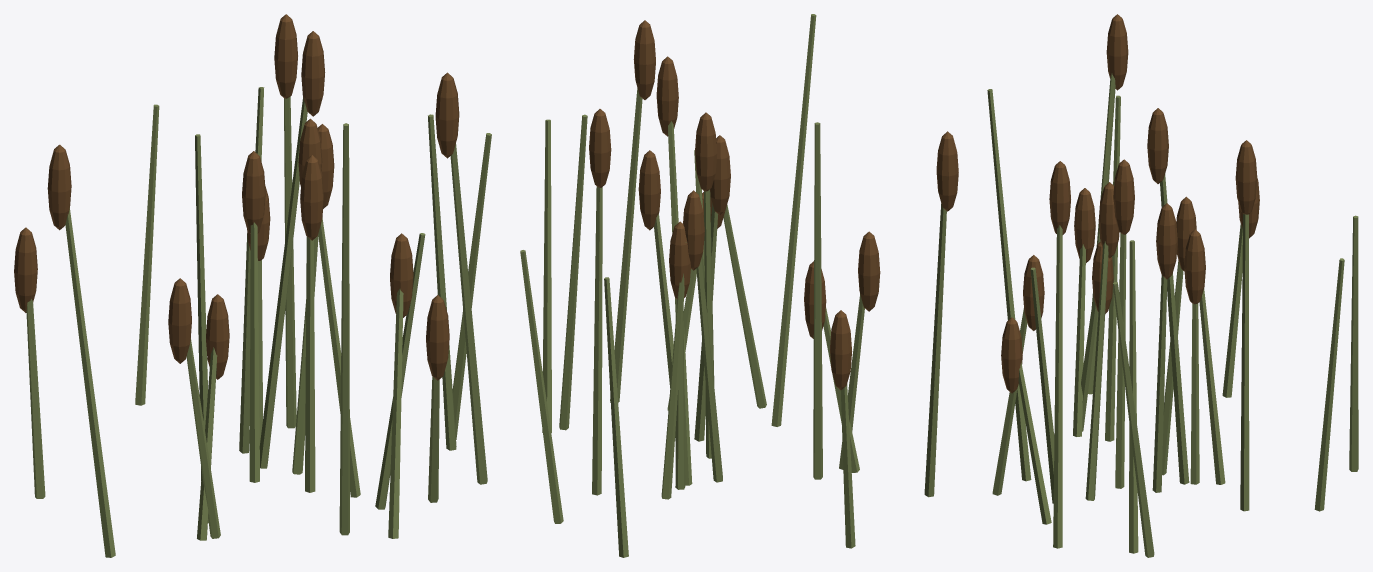
The model's file is detail_reeds.glb.
3 views of the same model, side by side, from view 1: azimuth 30°, elevation 25°; view 2: azimuth 150°, elevation 25°; view 3: azimuth 270°, elevation 25° (orthographic). The views are drawn at different scales.
Visible parts, largest first — view 1: Cone.006, Cone.017, Cone.010, Cone.008, Cone.018, Cone.019, Cone.011, Cone.002, Cone.015, Cone.013, Cone.012, Cone.009 (+23 smaller); view 2: Cone.006, Cone.012, Cone.019, Cone.015, Cone.017, Cone.010, Cone.009, Cone.018, Cone, Cone.002, Cone.003, Cone.013 (+20 smaller); view 3: Cone.010, Cone.006, Cone.019, Cone.009, Cone.004, Cone.018, Cone.015, Cone.008, Cone, Cone.012, Cone.011, Cone.005 (+23 smaller).
Part boxes in pixels (box(x1,y1,x2,y2)): Cone.006: box(339, 123, 349, 535); Cone.017: box(65, 208, 115, 557); Cone.010: box(450, 144, 487, 484); Cone.008: box(259, 97, 307, 468); Cone.018: box(135, 104, 159, 405); Cone.019: box(284, 96, 296, 428); Cone.011: box(305, 236, 315, 492); Cone.002: box(249, 222, 259, 482); Cone.015: box(428, 114, 456, 450); Cone.013: box(388, 289, 403, 538); Cone.012: box(195, 134, 208, 522); Cone.009: box(452, 133, 491, 439); Cone.006: box(771, 14, 816, 426); Cone.012: box(813, 122, 822, 479); Cone.019: box(592, 186, 602, 495); Cone.015: box(559, 114, 587, 430); Cone.017: box(924, 204, 946, 497); Cone.010: box(610, 88, 642, 402); Cone.009: box(542, 119, 551, 432); Cone.018: box(604, 277, 628, 557); Cone: box(520, 250, 563, 523); Cone.002: box(696, 257, 722, 482); Cone.003: box(661, 242, 686, 499); Cone.013: box(723, 204, 766, 408); Cone.010: box(1053, 225, 1062, 548); Cone.006: box(987, 89, 1031, 481); Cone.019: box(1240, 214, 1249, 511); Cone.009: box(1112, 282, 1154, 557); Cone.004: box(1085, 241, 1108, 500); Cone.018: box(1349, 215, 1358, 471); Cone.015: box(1129, 240, 1138, 553); Cone.008: box(1160, 174, 1189, 484); Cone: box(1314, 258, 1344, 511); Cone.012: box(1105, 95, 1120, 441); Cone.011: box(1115, 233, 1126, 488); Cone.005: box(1152, 275, 1167, 492).
Size of the model in its own units: 1.65 by 1.57 by 1.35.
